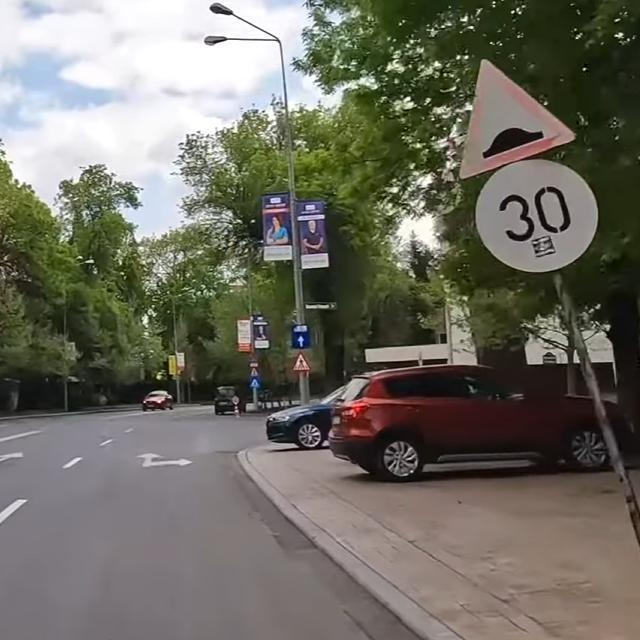forb_speed_over_30: (472, 153, 600, 272)
warn_crosswalk: (292, 351, 311, 373)
